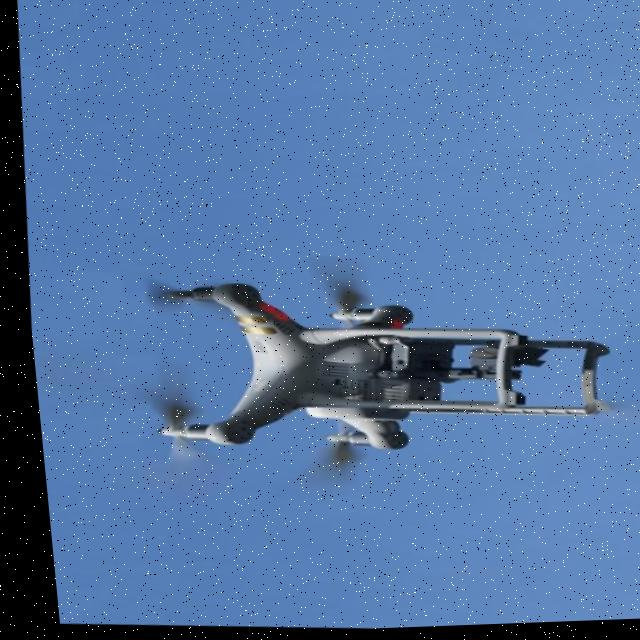drones: (42, 157, 640, 568)
